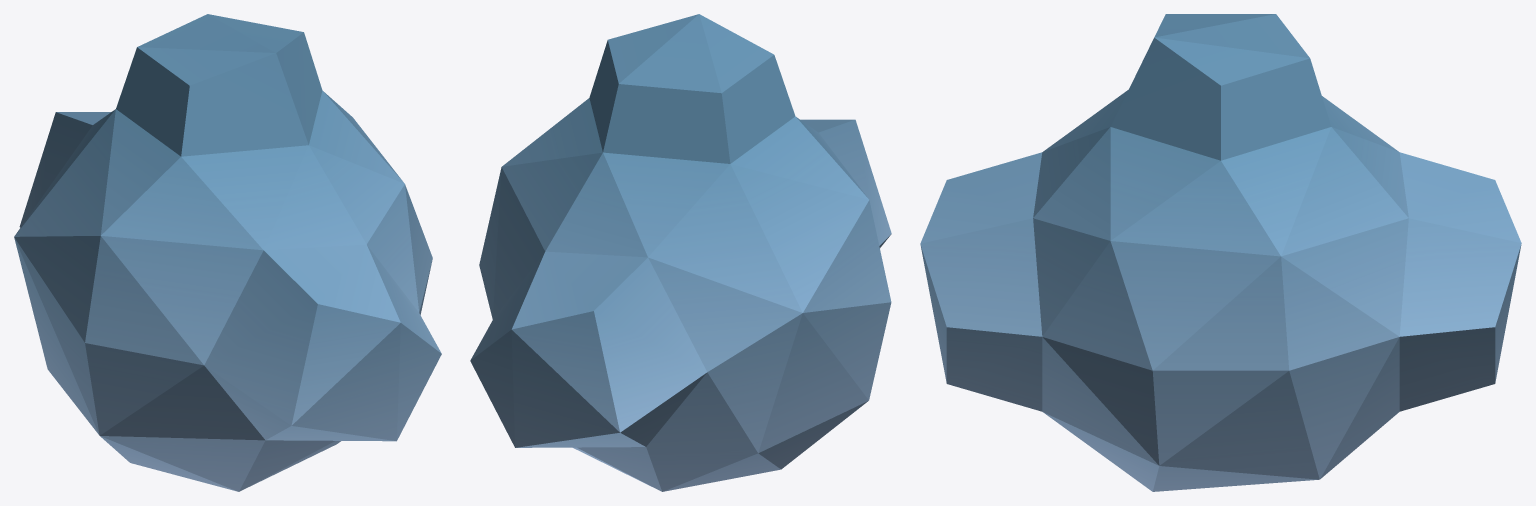
Rendered from ImpuroAgua.fbx.
3 views of the same model, side by side, from view 1: azimuth 30°, elevation 25°; view 2: azimuth 150°, elevation 25°; view 3: azimuth 270°, elevation 25° (orthographic). The views are drawn at different scales.
Visible parts, largest first — view 1: Icosphere.009; view 2: Icosphere.009; view 3: Icosphere.009.
Boxes of the visible parts, left/top/right/bottom form: Icosphere.009: left=14, top=14, right=441, bottom=491; Icosphere.009: left=470, top=14, right=891, bottom=491; Icosphere.009: left=920, top=14, right=1521, bottom=491.
Size of the model in its own units: 190 by 226 by 272.
